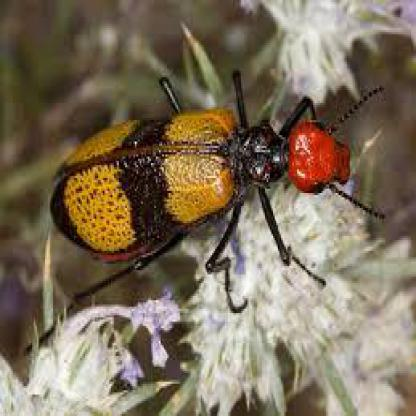blister beetle: (47, 69, 381, 312)
